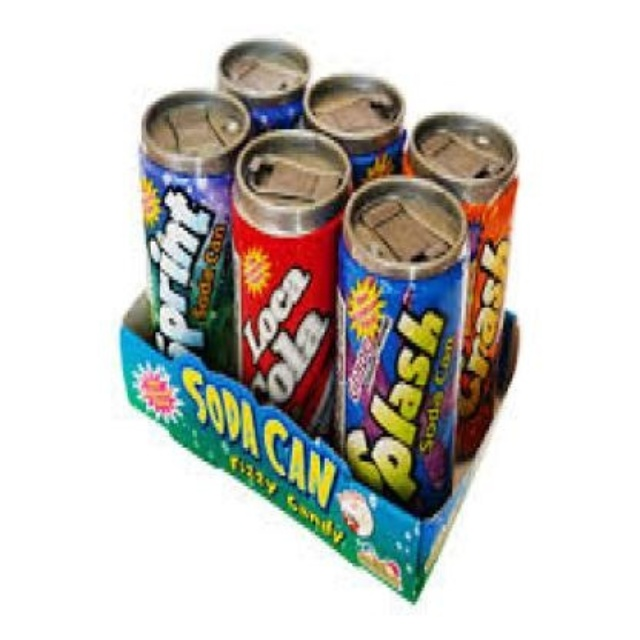trash: (123, 118, 515, 525), (337, 177, 465, 514), (406, 114, 515, 458), (232, 129, 349, 434), (142, 91, 249, 369), (305, 75, 405, 186), (218, 40, 308, 134)
